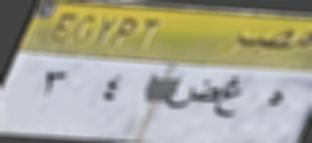3: (35, 68, 68, 97)
4: (101, 69, 128, 108)
daad: (165, 79, 218, 113)
ghayn: (217, 75, 246, 121)
haa: (262, 81, 288, 116)
